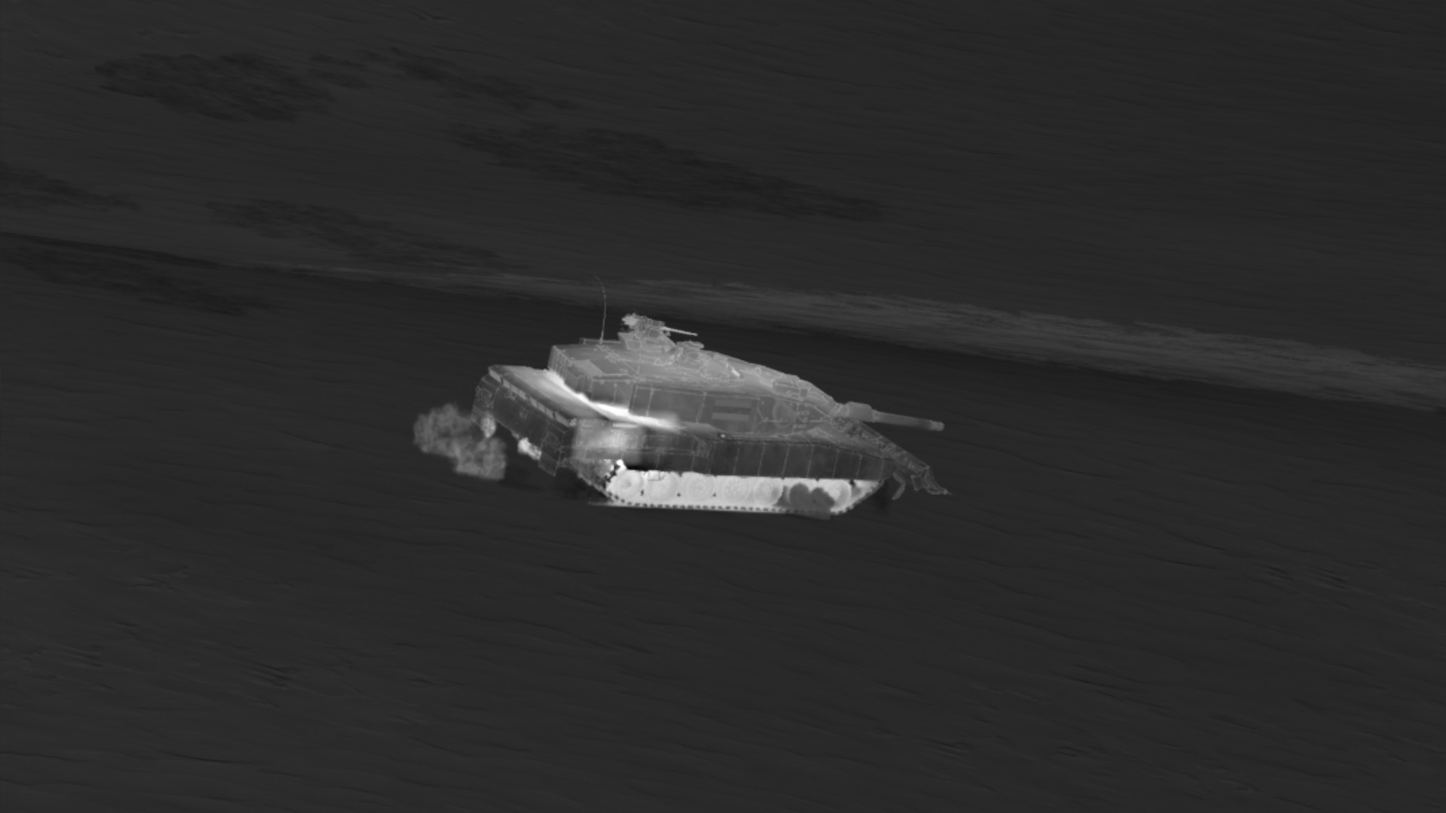leopard2: (470, 313, 955, 521)
